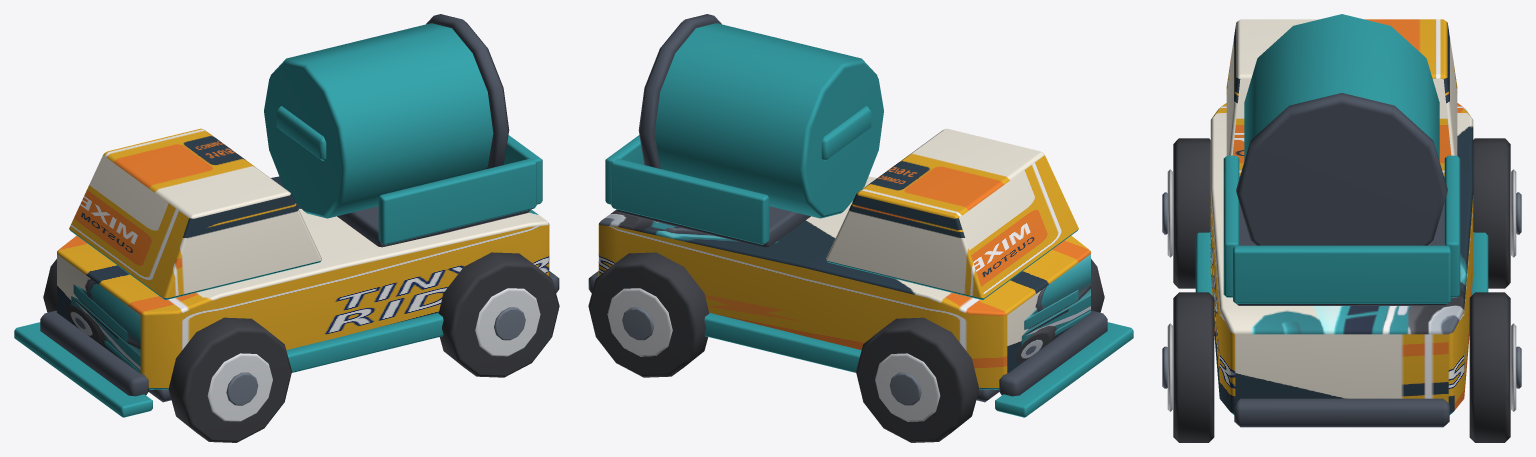
3 views of the same model, side by side, from view 1: azimuth 30°, elevation 25°; view 2: azimuth 150°, elevation 25°; view 3: azimuth 270°, elevation 25° (orthographic). The views are drawn at different scales.
Visible parts, largest first — view 1: WY-02_connected_shell, large mixing drum, WY-02_cabin, Tire, Tire.002, cargo side, custom side guard, custom chin, front bumper, rear drum collar, Rim.002, Rim (+6 smaller); view 2: WY-02_connected_shell, large mixing drum, WY-02_cabin, Tire.001, Tire.003, cargo side.001, custom side guard.001, custom chin, front bumper, rear drum collar, Rim.003, Rim.001 (+6 smaller); view 3: WY-02_connected_shell, rear drum collar, large mixing drum, cargo tail, WY-02_cabin, rear bumper, Tire.002, Tire.003, Tire, Tire.001, cargo side, cargo side.001 (+7 smaller).
Boxes of the visible parts, box(x1,y1,x2,y2) form: WY-02_connected_shell: box(57, 176, 549, 389); large mixing drum: box(264, 23, 493, 218); WY-02_cabin: box(69, 128, 321, 300); Tire: box(168, 317, 291, 442); Tire.002: box(438, 252, 559, 377); cargo side: box(378, 158, 536, 244); custom side guard: box(286, 312, 443, 372); custom chin: box(14, 322, 152, 417); front bumper: box(40, 310, 149, 396); rear drum collar: box(426, 14, 509, 169); Rim.002: box(475, 288, 540, 356); Rim: box(207, 353, 272, 421); WY-02_connected_shell: box(598, 176, 1090, 389); large mixing drum: box(654, 23, 883, 218); WY-02_cabin: box(826, 128, 1078, 300); Tire.001: box(856, 317, 979, 442); Tire.003: box(588, 252, 709, 377); cargo side.001: box(611, 158, 769, 244); custom side guard.001: box(704, 312, 861, 372); custom chin: box(995, 322, 1133, 417); front bumper: box(998, 310, 1107, 396); rear drum collar: box(638, 14, 721, 169); Rim.003: box(607, 288, 672, 356); Rim.001: box(875, 353, 940, 421); WY-02_connected_shell: box(1210, 103, 1473, 414); rear drum collar: box(1236, 93, 1447, 245); large mixing drum: box(1244, 14, 1439, 160); cargo tail: box(1233, 245, 1450, 303); WY-02_cabin: box(1226, 19, 1457, 177); rear bumper: box(1234, 398, 1449, 427); Tire.002: box(1173, 292, 1214, 442); Tire.003: box(1469, 292, 1510, 442); Tire: box(1173, 138, 1210, 288); Tire.001: box(1473, 138, 1510, 288); cargo side: box(1223, 155, 1239, 297); cargo side.001: box(1444, 155, 1460, 297).
Size of the model in its own units: 388 by 249 by 228.
